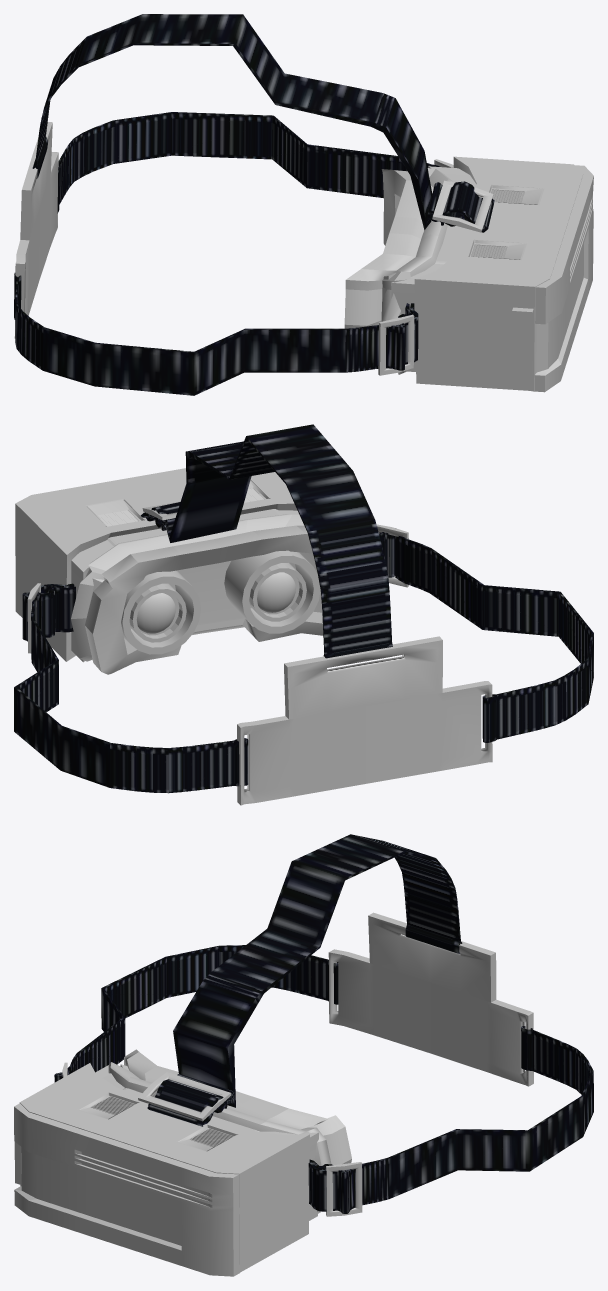
Rendered from 3dgooglesgamesvr.obj.
3 views of the same model, one above another, from view 1: azimuth 30°, elevation 25°; view 2: azimuth 150°, elevation 25°; view 3: azimuth 270°, elevation 25° (orthographic). The views are drawn at different scales.
Parts seen in each view (by area): view 1: Googles body, Googles R_belt, Googles Up_belt, Googles L_belt, Googles Rubber, front Googles, Googles plastic_support_behind, Googles Up_belt Up_plastic, Googles R_belt R_plastic; view 2: Googles plastic_support_behind, Googles Up_belt, Googles Rubber, Googles L_belt, Googles R_belt, Googles body, Googles R_binocular, Googles L_binocular, front Googles, Googles R_binocular R_pin, Googles L_binocular L_pin, Googles L_binocular L_glass (+1 smaller); view 3: Googles Up_belt, front Googles, Googles plastic_support_behind, Googles body, Googles L_belt, Googles R_belt, Googles Rubber, Googles Up_belt Up_plastic, Googles L_belt plastic_L.
Part boxes in pixels (box(x1,y1,x2,y2)): Googles body: box(391, 156, 583, 390); Googles R_belt: box(14, 273, 418, 395); Googles Up_belt: box(32, 14, 494, 232); Googles L_belt: box(57, 112, 440, 213); Googles Rubber: box(344, 168, 453, 374); front Googles: box(531, 165, 593, 392); Googles plastic_support_behind: box(14, 122, 58, 338); Googles Up_belt Up_plastic: box(432, 180, 493, 232); Googles R_belt R_plastic: box(378, 314, 414, 375); Googles plastic_support_behind: box(237, 636, 492, 805); Googles Up_belt: box(140, 424, 392, 664); Googles Rubber: box(71, 514, 323, 674); Googles L_belt: box(14, 583, 248, 793); Googles R_belt: box(379, 532, 593, 742); Googles body: box(19, 472, 299, 662); Googles R_binocular: box(224, 550, 320, 633); Googles L_binocular: box(121, 570, 200, 654); front Googles: box(15, 468, 185, 615); Googles R_binocular R_pin: box(249, 563, 306, 621); Googles L_binocular L_pin: box(129, 583, 186, 642); Googles L_binocular L_glass: box(136, 593, 175, 633); Googles Up_belt: box(147, 834, 462, 1126); front Googles: box(14, 1103, 239, 1276); Googles plastic_support_behind: box(328, 912, 533, 1086); Googles body: box(14, 1063, 318, 1272); Googles L_belt: box(308, 1026, 593, 1213); Googles R_belt: box(54, 945, 338, 1082); Googles Rubber: box(108, 1049, 351, 1213); Googles Up_belt Up_plastic: box(138, 1072, 231, 1121); Googles L_belt plastic_L: box(326, 1162, 362, 1216).
Bounding box in the file's own units: 16.61 × 8.14 × 15.99.
